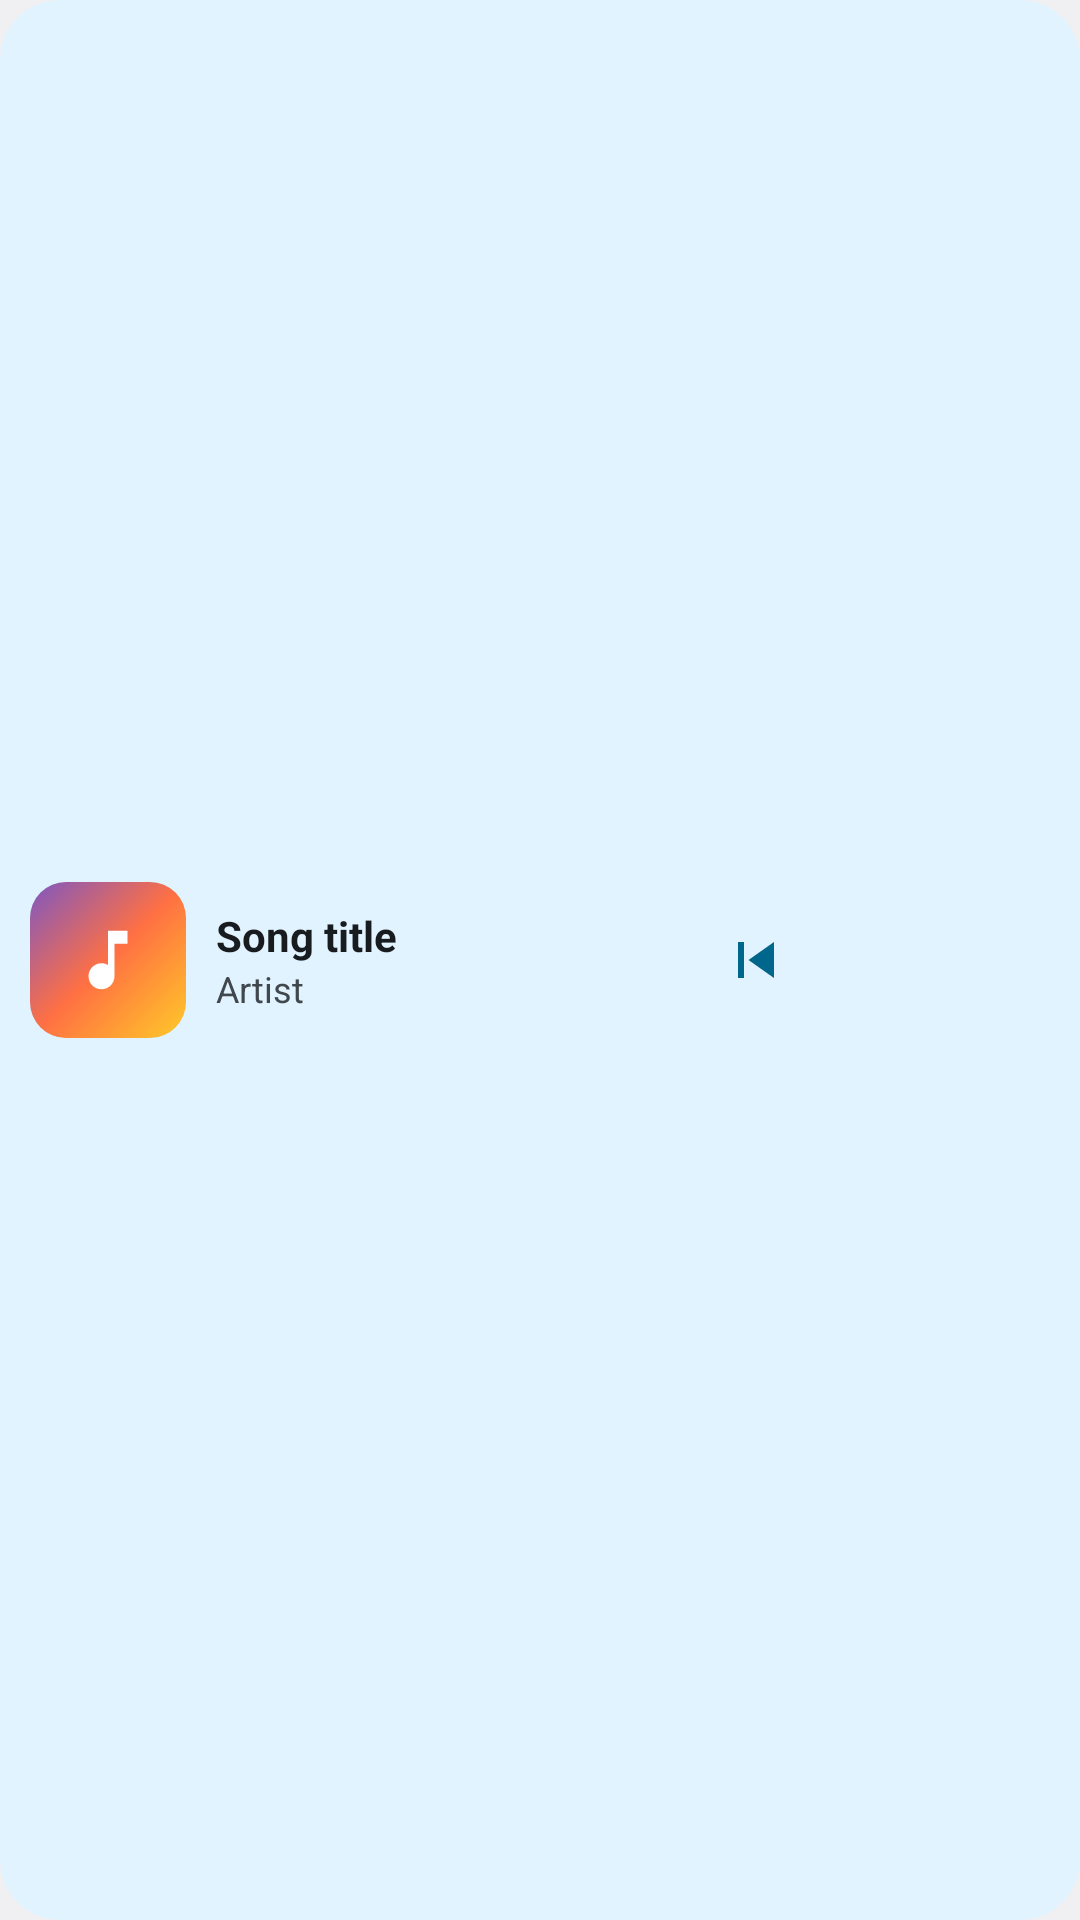

Named icons in this screenshot (1080px×1920px) and their bounding boxes, rect(x1, y1, x2, y2):
Previous track: rect(738, 942, 774, 978)
